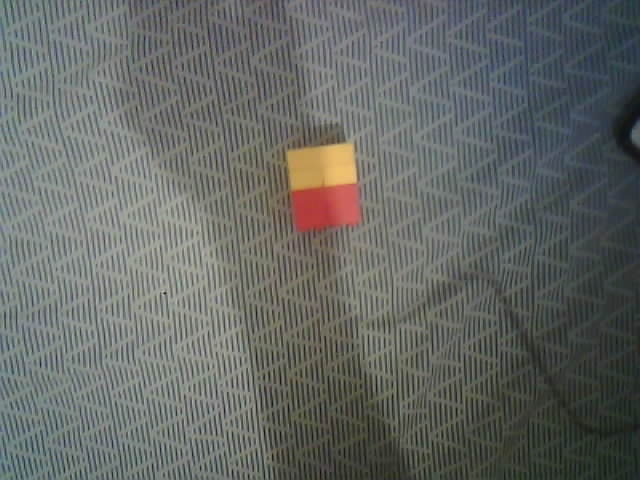lego: (285, 142, 362, 232)
